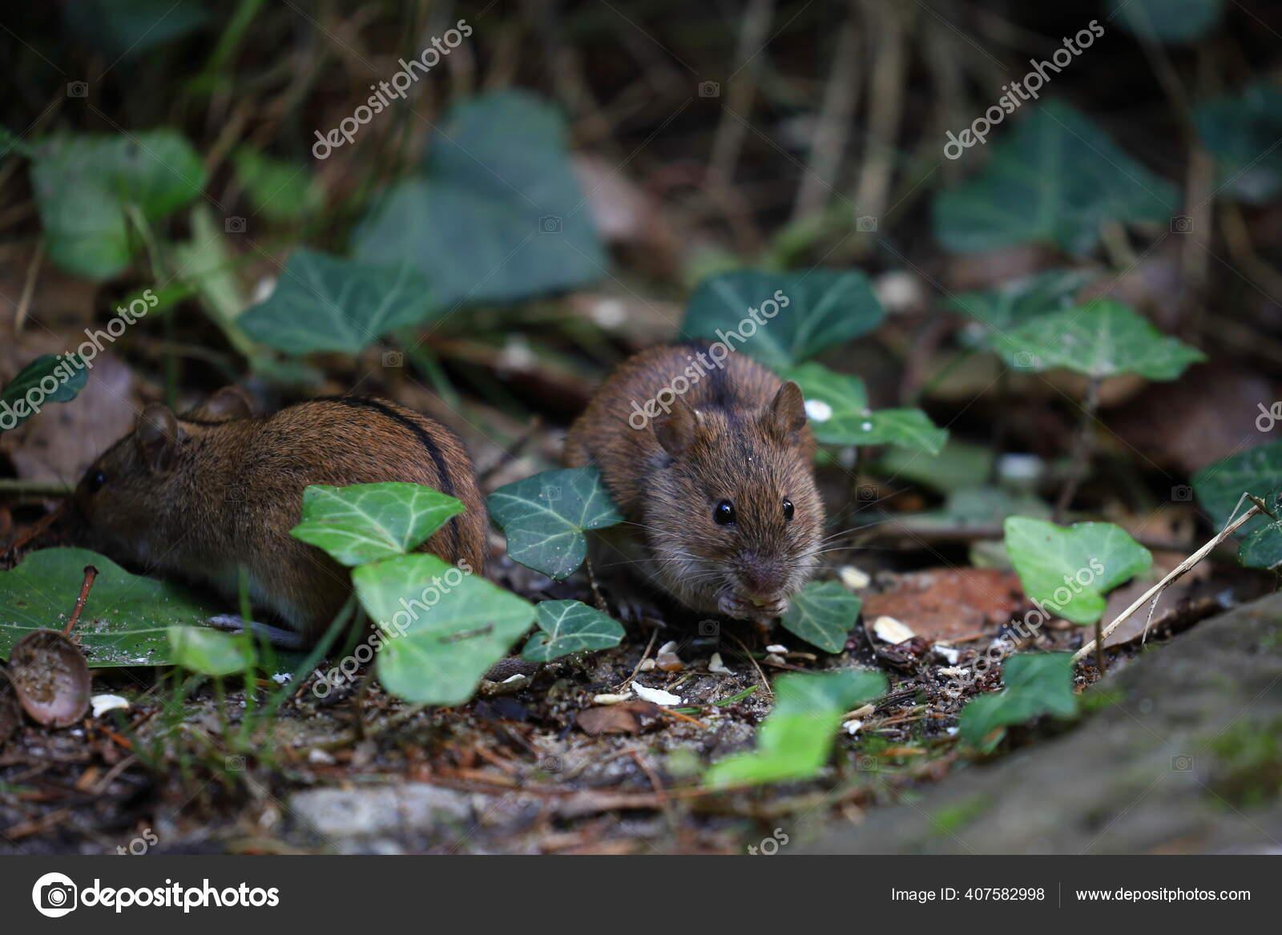rat: (62, 386, 494, 631), (591, 341, 825, 623)
